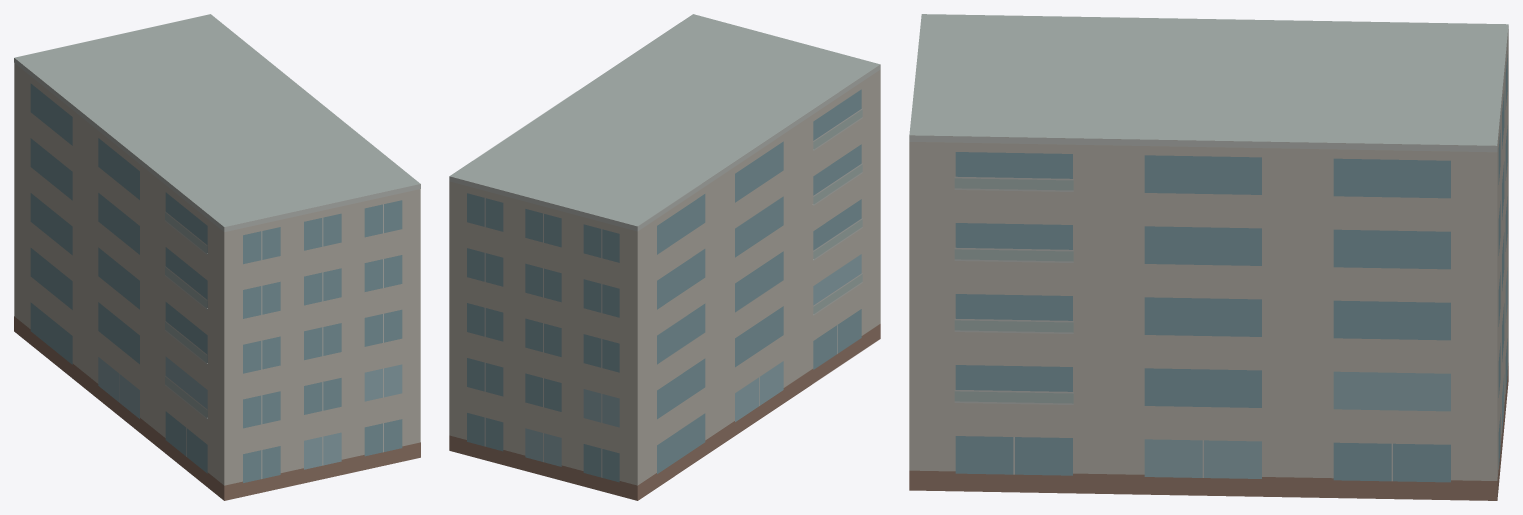
Rendered from survey-upis-32653457.glb.
The picture shows the model from 3 angles, left to right: view 1: azimuth 30°, elevation 25°; view 2: azimuth 150°, elevation 25°; view 3: azimuth 270°, elevation 25°; orthographic projection. The views are drawn at different scales.
Parts seen in each view (by area): view 1: survey-upis-32653457.tmp; view 2: survey-upis-32653457.tmp; view 3: survey-upis-32653457.tmp.
Boxes of the visible parts, x1,y1,x2,y2 form: survey-upis-32653457.tmp: [14, 14, 420, 500]; survey-upis-32653457.tmp: [449, 14, 880, 500]; survey-upis-32653457.tmp: [909, 14, 1508, 500].
Bounding box in the file's own units: 10.6 × 13.3 × 20.36.
